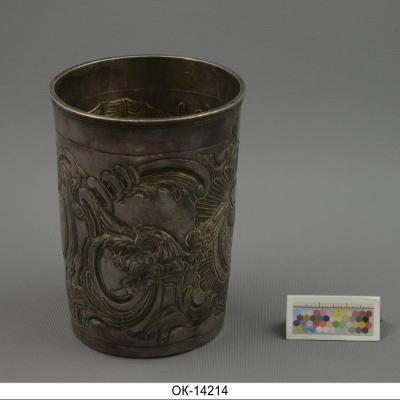dpi: (48, 56, 246, 361)
